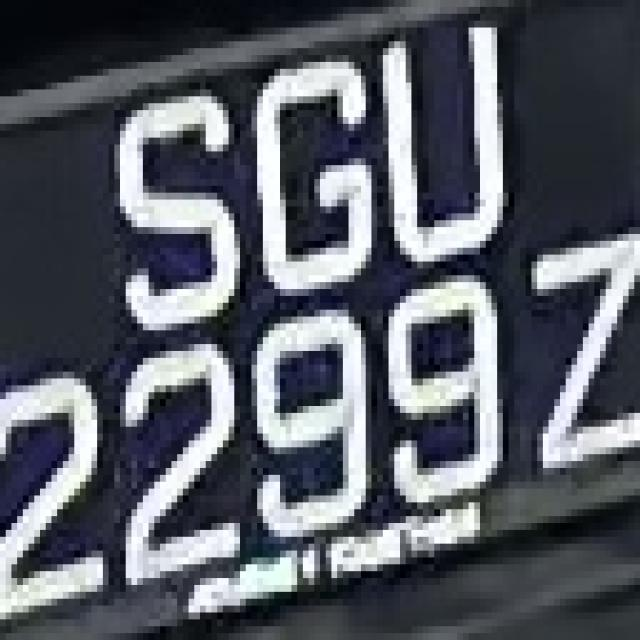2: (115, 323, 252, 592), (0, 344, 114, 612)
9: (246, 289, 383, 551), (377, 275, 509, 530)
G: (229, 34, 377, 303)
S: (103, 90, 240, 330)
U: (377, 20, 514, 262)
Z: (503, 220, 640, 502)
